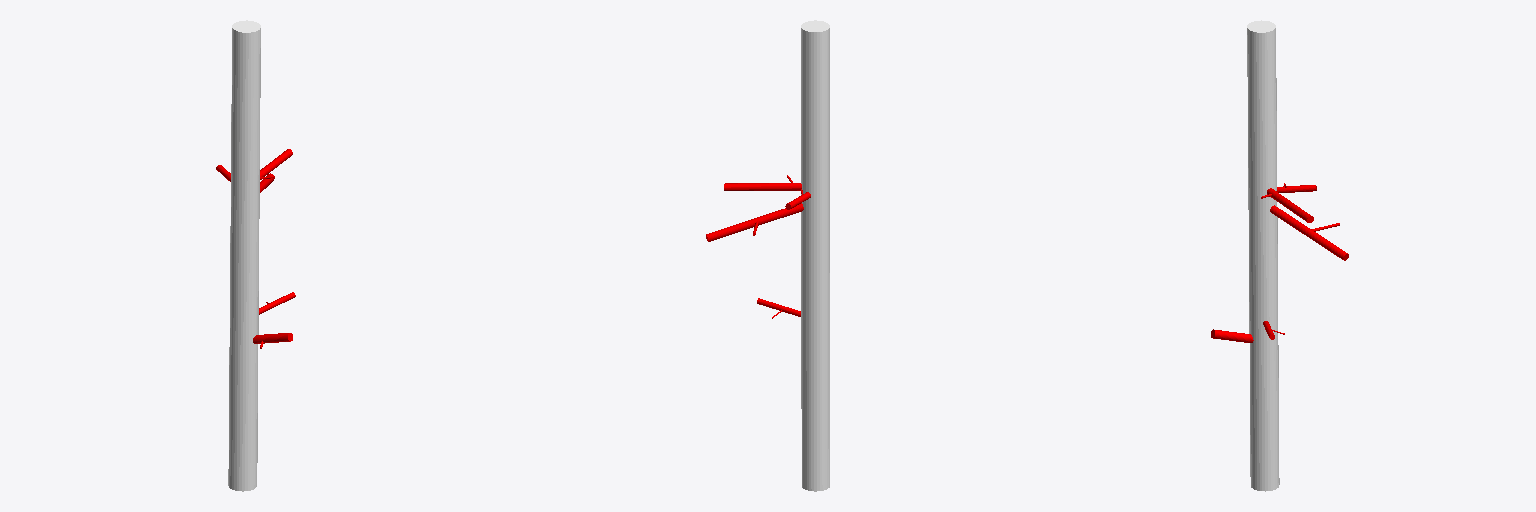
URDF robot description (tree_78.urdf):
<?xml version='1.0' encoding='UTF-8'?>
<robot name="tree_78.urdf">
  <link name="branch_0">
    <inertial>
      <origin xyz="0.0 0.0 0.0" rpy="0.0 -0.0 0.0"/>
      <mass value="0.1"/>
      <inertia ixx="0.001" ixy="0.0" ixz="0.0" iyy="0.001" iyz="0.0" izz="0.001"/>
    </inertial>
    <visual name="branch_0_visual">
      <geometry>
        <cylinder radius="0.1924109933302905" length="6.7328280637019535"/>
      </geometry>
      <material name="branch_material"/>
      <origin xyz="0.01575227656642345 -0.022824140054338436 3.3662998021948227" rpy="0.0 0.00823800206454958 -0.9667059106094221"/>
    </visual>
    <collision name="branch_0_collision">
      <geometry>
        <cylinder radius="0.1924109933302905" length="6.7328280637019535"/>
      </geometry>
      <origin xyz="0.01575227656642345 -0.022824140054338436 3.3662998021948227" rpy="0.0 0.00823800206454958 -0.9667059106094221"/>
    </collision>
  </link>
  <link name="branch_1">
    <inertial>
      <origin xyz="0.0 0.0 0.0" rpy="0.0 -0.0 0.0"/>
      <mass value="0.1"/>
      <inertia ixx="0.001" ixy="0.0" ixz="0.0" iyy="0.001" iyz="0.0" izz="0.001"/>
    </inertial>
    <visual name="branch_1_visual">
      <geometry>
        <cylinder radius="0.04461086531374427" length="0.7135339677751154"/>
      </geometry>
      <material name="semantic_material"/>
      <origin xyz="0.0 0.0 0.0" rpy="0.0 -0.0 0.0"/>
    </visual>
    <collision name="branch_1_collision">
      <geometry>
        <cylinder radius="0.04461086531374427" length="0.7135339677751154"/>
      </geometry>
      <origin xyz="0.0 0.0 0.0" rpy="0.0 -0.0 0.0"/>
    </collision>
  </link>
  <link name="branch_2">
    <inertial>
      <origin xyz="0.0 0.0 0.0" rpy="0.0 -0.0 0.0"/>
      <mass value="0.1"/>
      <inertia ixx="0.001" ixy="0.0" ixz="0.0" iyy="0.001" iyz="0.0" izz="0.001"/>
    </inertial>
    <visual name="branch_2_visual">
      <geometry>
        <cylinder radius="0.011763188430454737" length="0.12266247294163497"/>
      </geometry>
      <material name="semantic_material"/>
      <origin xyz="0.0 0.0 0.0" rpy="0.0 -0.0 0.0"/>
    </visual>
    <collision name="branch_2_collision">
      <geometry>
        <cylinder radius="0.011763188430454737" length="0.12266247294163497"/>
      </geometry>
      <origin xyz="0.0 0.0 0.0" rpy="0.0 -0.0 0.0"/>
    </collision>
  </link>
  <link name="branch_3">
    <inertial>
      <origin xyz="0.0 0.0 0.0" rpy="0.0 -0.0 0.0"/>
      <mass value="0.1"/>
      <inertia ixx="0.001" ixy="0.0" ixz="0.0" iyy="0.001" iyz="0.0" izz="0.001"/>
    </inertial>
    <visual name="branch_3_visual">
      <geometry>
        <cylinder radius="0.052149284685430765" length="1.2205774794473776"/>
      </geometry>
      <material name="semantic_material"/>
      <origin xyz="0.0 0.0 0.0" rpy="0.0 -0.0 0.0"/>
    </visual>
    <collision name="branch_3_collision">
      <geometry>
        <cylinder radius="0.052149284685430765" length="1.2205774794473776"/>
      </geometry>
      <origin xyz="0.0 0.0 0.0" rpy="0.0 -0.0 0.0"/>
    </collision>
  </link>
  <link name="branch_4">
    <inertial>
      <origin xyz="0.0 0.0 0.0" rpy="0.0 -0.0 0.0"/>
      <mass value="0.1"/>
      <inertia ixx="0.001" ixy="0.0" ixz="0.0" iyy="0.001" iyz="0.0" izz="0.001"/>
    </inertial>
    <visual name="branch_4_visual">
      <geometry>
        <cylinder radius="0.014912557424303164" length="0.2625246984938365"/>
      </geometry>
      <material name="semantic_material"/>
      <origin xyz="0.0 0.0 0.0" rpy="0.0 -0.0 0.0"/>
    </visual>
    <collision name="branch_4_collision">
      <geometry>
        <cylinder radius="0.014912557424303164" length="0.2625246984938365"/>
      </geometry>
      <origin xyz="0.0 0.0 0.0" rpy="0.0 -0.0 0.0"/>
    </collision>
  </link>
  <link name="branch_5">
    <inertial>
      <origin xyz="0.0 0.0 0.0" rpy="0.0 -0.0 0.0"/>
      <mass value="0.1"/>
      <inertia ixx="0.001" ixy="0.0" ixz="0.0" iyy="0.001" iyz="0.0" izz="0.001"/>
    </inertial>
    <visual name="branch_5_visual">
      <geometry>
        <cylinder radius="0.05516931008513627" length="1.5482216708997978"/>
      </geometry>
      <material name="semantic_material"/>
      <origin xyz="0.0 0.0 0.0" rpy="0.0 -0.0 0.0"/>
    </visual>
    <collision name="branch_5_collision">
      <geometry>
        <cylinder radius="0.05516931008513627" length="1.5482216708997978"/>
      </geometry>
      <origin xyz="0.0 0.0 0.0" rpy="0.0 -0.0 0.0"/>
    </collision>
  </link>
  <link name="branch_6">
    <inertial>
      <origin xyz="0.0 0.0 0.0" rpy="0.0 -0.0 0.0"/>
      <mass value="0.1"/>
      <inertia ixx="0.001" ixy="0.0" ixz="0.0" iyy="0.001" iyz="0.0" izz="0.001"/>
    </inertial>
    <visual name="branch_6_visual">
      <geometry>
        <cylinder radius="0.020350824907434593" length="0.46055088116596143"/>
      </geometry>
      <material name="semantic_material"/>
      <origin xyz="0.0 0.0 0.0" rpy="0.0 -0.0 0.0"/>
    </visual>
    <collision name="branch_6_collision">
      <geometry>
        <cylinder radius="0.020350824907434593" length="0.46055088116596143"/>
      </geometry>
      <origin xyz="0.0 0.0 0.0" rpy="0.0 -0.0 0.0"/>
    </collision>
  </link>
  <link name="branch_7">
    <inertial>
      <origin xyz="0.0 0.0 0.0" rpy="0.0 -0.0 0.0"/>
      <mass value="0.1"/>
      <inertia ixx="0.001" ixy="0.0" ixz="0.0" iyy="0.001" iyz="0.0" izz="0.001"/>
    </inertial>
    <visual name="branch_7_visual">
      <geometry>
        <cylinder radius="0.06019671432310988" length="0.7891484369353684"/>
      </geometry>
      <material name="semantic_material"/>
      <origin xyz="0.0 0.0 0.0" rpy="0.0 -0.0 0.0"/>
    </visual>
    <collision name="branch_7_collision">
      <geometry>
        <cylinder radius="0.06019671432310988" length="0.7891484369353684"/>
      </geometry>
      <origin xyz="0.0 0.0 0.0" rpy="0.0 -0.0 0.0"/>
    </collision>
  </link>
  <link name="branch_8">
    <inertial>
      <origin xyz="0.0 0.0 0.0" rpy="0.0 -0.0 0.0"/>
      <mass value="0.1"/>
      <inertia ixx="0.001" ixy="0.0" ixz="0.0" iyy="0.001" iyz="0.0" izz="0.001"/>
    </inertial>
    <visual name="branch_8_visual">
      <geometry>
        <cylinder radius="0.01677798667392655" length="0.1781117517493432"/>
      </geometry>
      <material name="semantic_material"/>
      <origin xyz="0.0 0.0 0.0" rpy="0.0 -0.0 0.0"/>
    </visual>
    <collision name="branch_8_collision">
      <geometry>
        <cylinder radius="0.01677798667392655" length="0.1781117517493432"/>
      </geometry>
      <origin xyz="0.0 0.0 0.0" rpy="0.0 -0.0 0.0"/>
    </collision>
  </link>
  <link name="branch_9">
    <inertial>
      <origin xyz="0.0 0.0 0.0" rpy="0.0 -0.0 0.0"/>
      <mass value="0.1"/>
      <inertia ixx="0.001" ixy="0.0" ixz="0.0" iyy="0.001" iyz="0.0" izz="0.001"/>
    </inertial>
    <visual name="branch_9_visual">
      <geometry>
        <cylinder radius="0.03881728490430245" length="0.8425797276531205"/>
      </geometry>
      <material name="semantic_material"/>
      <origin xyz="0.0 0.0 0.0" rpy="0.0 -0.0 0.0"/>
    </visual>
    <collision name="branch_9_collision">
      <geometry>
        <cylinder radius="0.03881728490430245" length="0.8425797276531205"/>
      </geometry>
      <origin xyz="0.0 0.0 0.0" rpy="0.0 -0.0 0.0"/>
    </collision>
  </link>
  <link name="branch_10">
    <inertial>
      <origin xyz="0.0 0.0 0.0" rpy="0.0 -0.0 0.0"/>
      <mass value="0.1"/>
      <inertia ixx="0.001" ixy="0.0" ixz="0.0" iyy="0.001" iyz="0.0" izz="0.001"/>
    </inertial>
    <visual name="branch_10_visual">
      <geometry>
        <cylinder radius="0.010078488148775273" length="0.23532595698020492"/>
      </geometry>
      <material name="semantic_material"/>
      <origin xyz="0.0 0.0 0.0" rpy="0.0 -0.0 0.0"/>
    </visual>
    <collision name="branch_10_collision">
      <geometry>
        <cylinder radius="0.010078488148775273" length="0.23532595698020492"/>
      </geometry>
      <origin xyz="0.0 0.0 0.0" rpy="0.0 -0.0 0.0"/>
    </collision>
  </link>
  <joint name="joint_0_1" type="fixed">
    <parent link="branch_0"/>
    <child link="branch_1"/>
    <axis xyz="1. 0. 0."/>
    <origin xyz="0.026074412513055263 0.3265204984972085 4.345653515588857" rpy="0.0671182413823198 1.4993445686537692 1.6216227781826869"/>
  </joint>
  <joint name="joint_0_3" type="fixed">
    <parent link="branch_0"/>
    <child link="branch_3"/>
    <axis xyz="1. 0. 0."/>
    <origin xyz="0.5422656720261076 0.2868614301739073 4.38357139729203" rpy="1.3994573414677367 1.5624503068740088 1.9448322316670548"/>
  </joint>
  <joint name="joint_0_5" type="fixed">
    <parent link="branch_0"/>
    <child link="branch_5"/>
    <axis xyz="1. 0. 0."/>
    <origin xyz="0.5360070553225709 0.5256342474113248 3.989854240917499" rpy="3.1027590961123197 1.3619491064932272 -2.3611610446433926"/>
  </joint>
  <joint name="joint_0_7" type="fixed">
    <parent link="branch_0"/>
    <child link="branch_7"/>
    <axis xyz="1. 0. 0."/>
    <origin xyz="0.17235033740736871 -0.35230376080763715 2.249900843072918" rpy="-0.004115511187709645 1.253550436995985 -1.1270933809999568"/>
  </joint>
  <joint name="joint_0_9" type="fixed">
    <parent link="branch_0"/>
    <child link="branch_9"/>
    <axis xyz="1. 0. 0."/>
    <origin xyz="0.42474785499232753 0.039588202066255754 2.501160401090224" rpy="0.052315508157095604 1.4297323314942185 0.1878529956555337"/>
  </joint>
  <joint name="joint_1_2" type="fixed">
    <parent link="branch_0"/>
    <child link="branch_2"/>
    <axis xyz="1. 0. 0."/>
    <origin xyz="0.05119227563684315 0.2739600078417547 4.396370868893526" rpy="-0.45970578909995363 0.24457413634454928 -1.6725054964070065"/>
  </joint>
  <joint name="joint_3_4" type="fixed">
    <parent link="branch_0"/>
    <child link="branch_4"/>
    <axis xyz="1. 0. 0."/>
    <origin xyz="0.3586002237785225 0.0349764357676472 4.405865802881156" rpy="-1.3960390266231266 -0.06656208854447604 -2.228420820178947"/>
  </joint>
  <joint name="joint_5_6" type="fixed">
    <parent link="branch_0"/>
    <child link="branch_6"/>
    <axis xyz="1. 0. 0."/>
    <origin xyz="0.4789718692361543 0.7752674573316733 3.9908342077829295" rpy="1.5146170382159265 -0.24670346198903345 -2.705439208619792"/>
  </joint>
  <joint name="joint_7_8" type="fixed">
    <parent link="branch_0"/>
    <child link="branch_8"/>
    <axis xyz="1. 0. 0."/>
    <origin xyz="0.08873009404989135 -0.35750074441157903 2.1998054637413373" rpy="-1.9353147421840857 0.4166209800475514 2.263379075759801"/>
  </joint>
  <joint name="joint_9_10" type="fixed">
    <parent link="branch_0"/>
    <child link="branch_10"/>
    <axis xyz="1. 0. 0."/>
    <origin xyz="0.493822963736097 0.1564052323077074 2.479395225561546" rpy="1.8157373699158417 0.22923779419680756 2.9599398660793454"/>
  </joint>
  <material name="branch_material">
    <color rgba="1. 1. 1. 1."/>
  </material>
  <material name="semantic_material">
    <color rgba="1. 0. 0. 1."/>
  </material>
</robot>

--- Render facts (derived) ---
The picture shows the robot from 3 angles, left to right: view 1: azimuth 30°, elevation 25°; view 2: azimuth 150°, elevation 25°; view 3: azimuth 270°, elevation 25°; orthographic projection.
Robot: tree_78.urdf — 11 links, 10 joints (10 fixed); root link branch_0; default pose: every joint at zero.
Visible links, largest first — view 1: branch_0; view 2: branch_0, branch_5, branch_3; view 3: branch_0, branch_5.
Boxes of the visible links, x1,y1,x2,y2 form: branch_0: [228, 20, 260, 491]; branch_0: [801, 20, 829, 491]; branch_5: [706, 203, 803, 241]; branch_3: [724, 183, 801, 190]; branch_0: [1247, 20, 1279, 491]; branch_5: [1270, 205, 1348, 260].
Size in the robot's own frame: 1.29 by 1.84 by 6.74 metres.
Geometry: primitives only (box / cylinder / sphere), no mesh files.